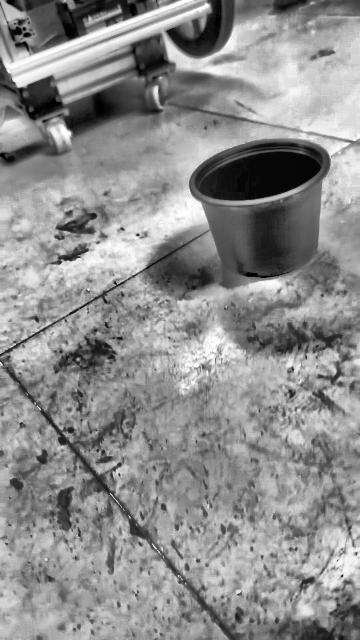pot: (189, 138, 331, 277)
